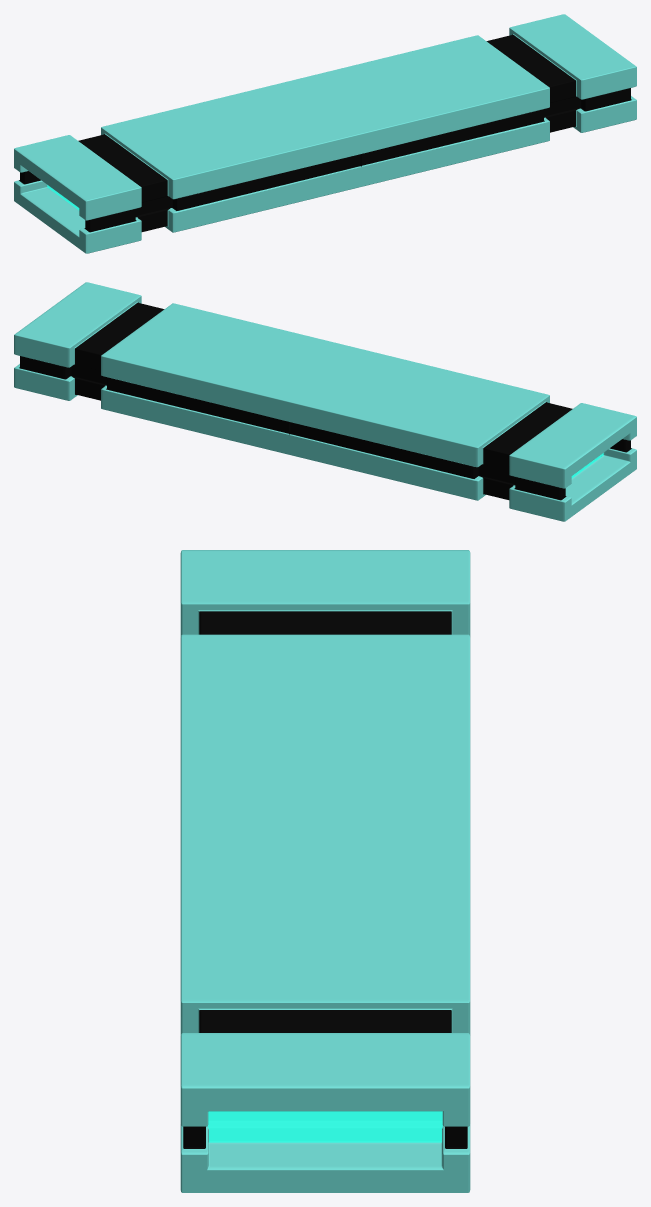
File: paddle.glb
3 views of the same model, one above another, from view 1: azimuth 30°, elevation 25°; view 2: azimuth 150°, elevation 25°; view 3: azimuth 270°, elevation 25° (orthographic). The views are drawn at different scales.
Parts seen in each view (by area): view 1: Cube; view 2: Cube; view 3: Cube.
Boxes of the visible parts, box(x1,y1,x2,y2) form: Cube: box(14, 14, 636, 253); Cube: box(14, 282, 636, 521); Cube: box(180, 550, 470, 1192).
Bounding box in the file's own units: 4.4 × 0.4065 × 1.
